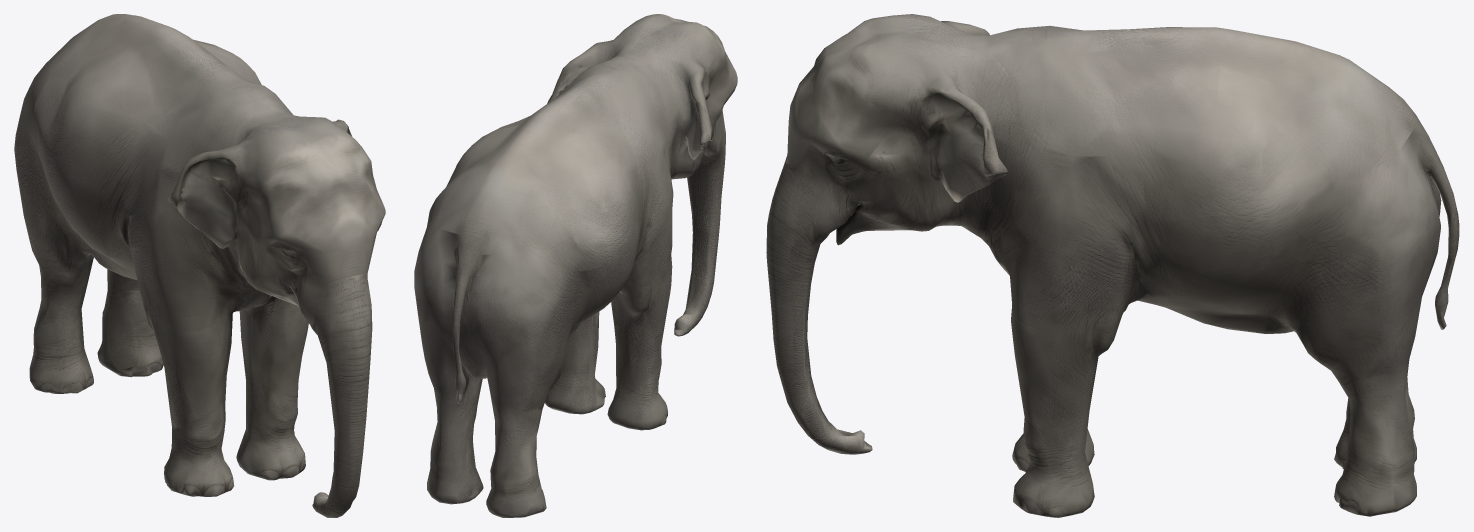
The model's file is elephant-default.glb.
3 renders of one model, left to right at view 1: azimuth 30°, elevation 25°; view 2: azimuth 150°, elevation 25°; view 3: azimuth 270°, elevation 25°, orthographic. The views are drawn at different scales.
Visible parts, largest first — view 1: Mesh_0; view 2: Mesh_0; view 3: Mesh_0.
Boxes of the visible parts, x1=… form: Mesh_0: x1=14, y1=14, x2=385, y2=517; Mesh_0: x1=414, y1=14, x2=737, y2=517; Mesh_0: x1=766, y1=14, x2=1459, y2=517.
Size of the model in its own units: 0.7467 by 1.38 by 1.91.
1 material, 1 textured.
